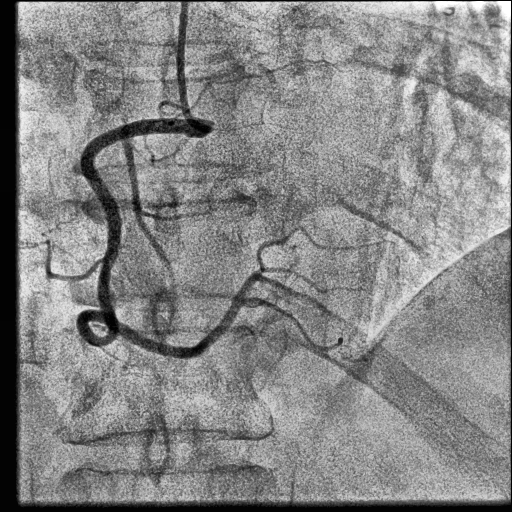pborca: (236, 268, 328, 298)
pda: (243, 297, 343, 351)
rca: (77, 118, 245, 359)
